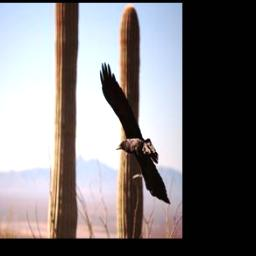Crow: (97, 60, 171, 207)
